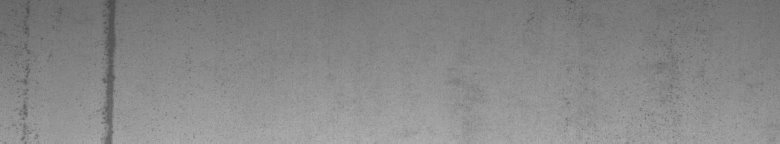hd: (97, 4, 120, 136)
